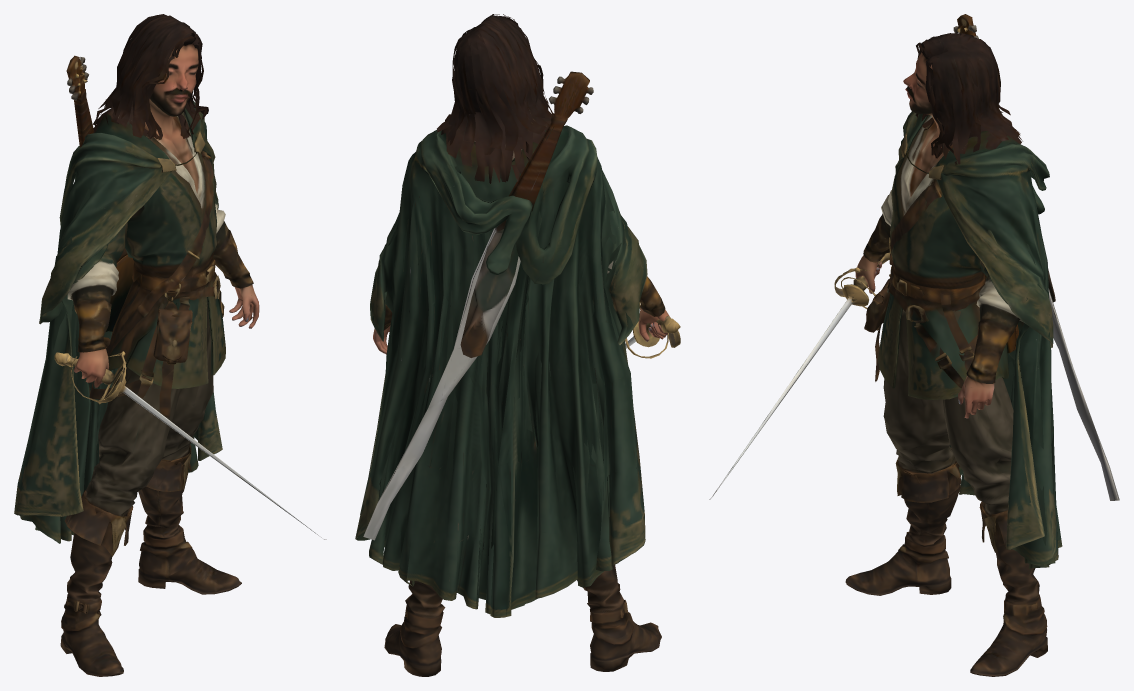
Rendered from jusef.glb.
3 views of the same model, side by side, from view 1: azimuth 30°, elevation 25°; view 2: azimuth 150°, elevation 25°; view 3: azimuth 270°, elevation 25° (orthographic). The views are drawn at different scales.
Parts seen in each view (by area): view 1: geometry_0; view 2: geometry_0; view 3: geometry_0.
Part boxes in pixels (bbox=[...]): geometry_0: bbox=[14, 14, 326, 676]; geometry_0: bbox=[355, 14, 680, 676]; geometry_0: bbox=[709, 14, 1119, 676].
Size of the model in its own units: 0.4072 by 0.9478 by 0.5825.
1 material, 1 textured.
